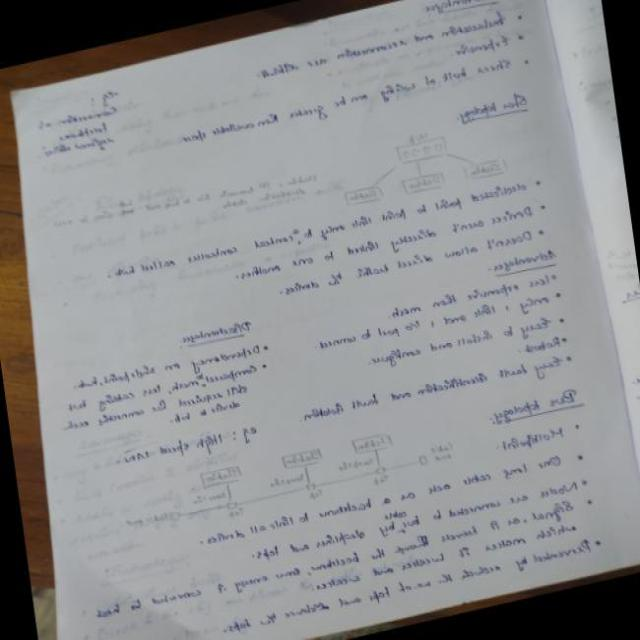Figure Detection - v3 Dataset Version2: (112, 404, 461, 546), (328, 105, 513, 212)
